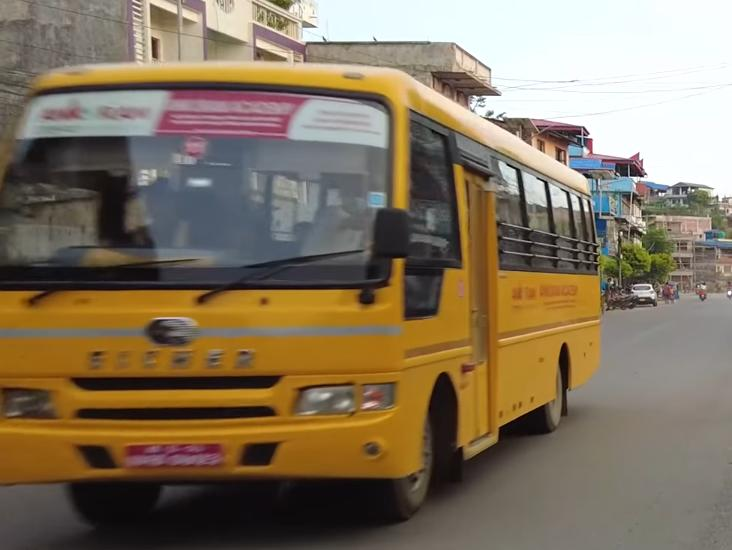school_bus: (0, 57, 607, 529)
